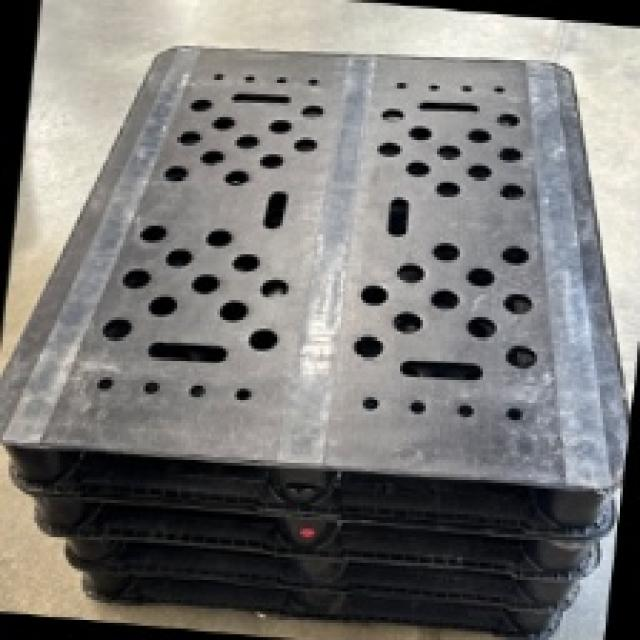igps: (0, 34, 634, 548), (0, 466, 606, 588), (51, 524, 588, 622), (65, 560, 571, 640)
